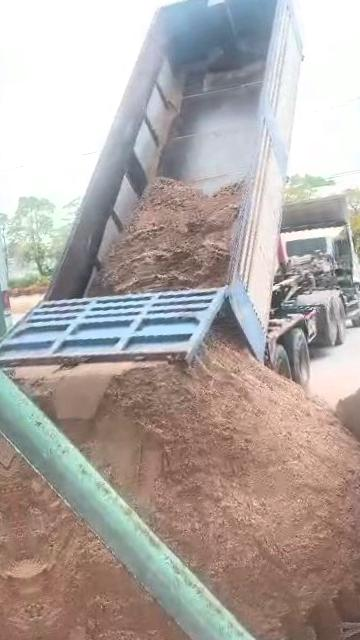sand: (18, 325, 360, 640), (5, 444, 203, 640), (102, 180, 237, 292)
